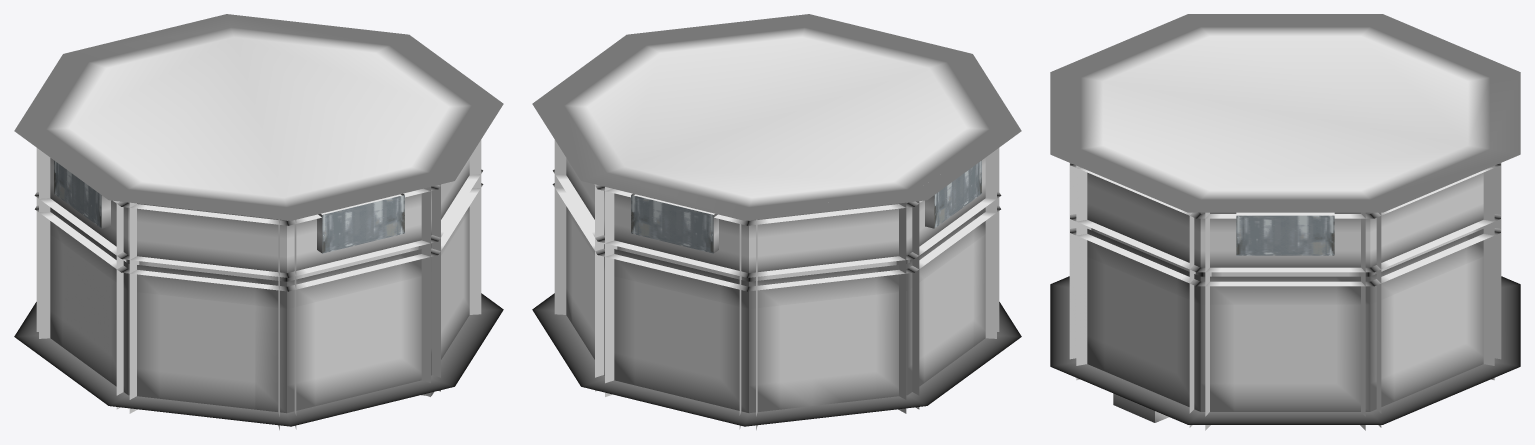
File: Office.fbx
The picture shows the model from 3 angles, left to right: view 1: azimuth 30°, elevation 25°; view 2: azimuth 150°, elevation 25°; view 3: azimuth 270°, elevation 25°; orthographic projection. The views are drawn at different scales.
Visible parts, largest first — view 1: Ceiling, Wall, Wood, Beam, Floor, BottomBeam, TopBeam; view 2: Ceiling, Wall, Wood, Beam, Floor, BottomBeam, TopBeam; view 3: Ceiling, Wall, Wood, Beam, Floor, BottomBeam, TopBeam, Filing Cabinet4.
Part boxes in pixels (x1,y1,x2,y2): Ceiling: (14, 14, 503, 220); Wall: (50, 206, 469, 413); Wood: (50, 158, 469, 273); Beam: (36, 140, 481, 430); Floor: (14, 293, 503, 426); BottomBeam: (34, 169, 483, 291); TopBeam: (113, 184, 441, 225); Ceiling: (532, 14, 1021, 220); Wall: (566, 206, 985, 413); Wood: (566, 158, 985, 273); Beam: (554, 140, 999, 430); Floor: (532, 293, 1021, 426); BottomBeam: (552, 169, 1001, 291); TopBeam: (594, 184, 922, 225); Ceiling: (1050, 14, 1520, 212); Wall: (1087, 229, 1483, 411); Wood: (1087, 172, 1483, 267); Beam: (1069, 163, 1501, 430); Floor: (1050, 276, 1520, 424); BottomBeam: (1070, 214, 1500, 286); TopBeam: (1070, 163, 1500, 218); Filing Cabinet4: (1113, 393, 1169, 422).
Size of the model in its own units: 955 by 553 by 955.
